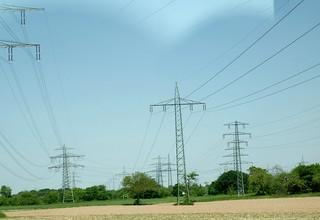power_tower: (146, 79, 213, 208), (222, 117, 254, 198), (53, 145, 84, 205)
